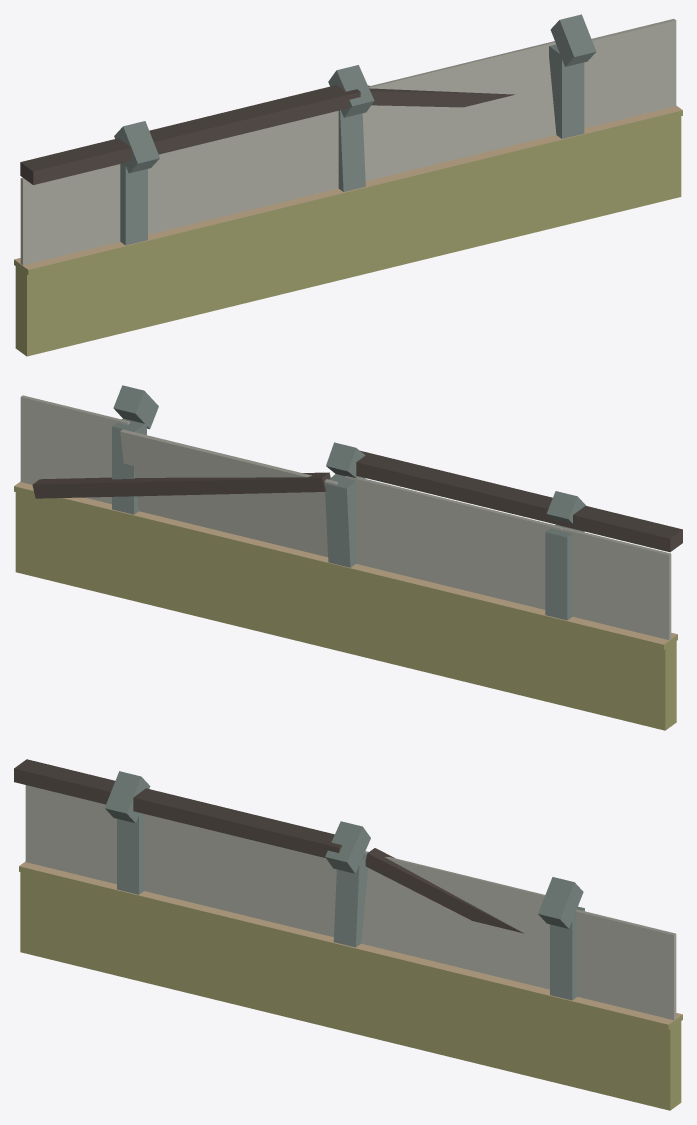
File: SM_VallaBetera_MuroBajo_e1_SanaGolpeada_LOD1.fbx
The picture shows the model from 3 angles, top to bottom: view 1: azimuth 30°, elevation 25°; view 2: azimuth 150°, elevation 25°; view 3: azimuth 330°, elevation 25°; orthographic projection.
Visible parts, largest first — view 1: SM_valla_estados_v6_LOD1; view 2: SM_valla_estados_v6_LOD1; view 3: SM_valla_estados_v6_LOD1.
Part boxes in pixels (x1=…): SM_valla_estados_v6_LOD1: x1=14, y1=14, x2=682, y2=356; SM_valla_estados_v6_LOD1: x1=14, y1=385, x2=682, y2=730; SM_valla_estados_v6_LOD1: x1=14, y1=759, x2=682, y2=1110.
Bounding box in the file's own units: 10 × 2.99 × 0.7947.
